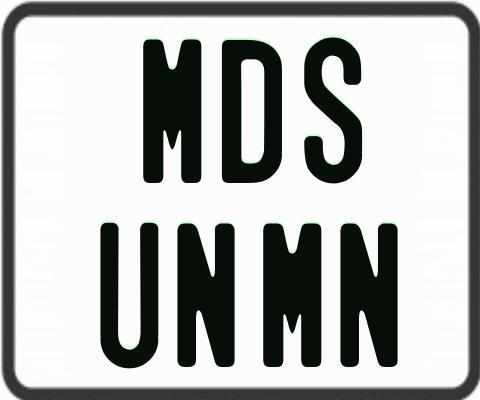D: (220, 38, 281, 184)
M: (261, 220, 323, 366), (142, 39, 201, 186)
N: (176, 222, 236, 371), (340, 222, 401, 368)
S: (303, 37, 366, 183)
U: (100, 223, 161, 368)
